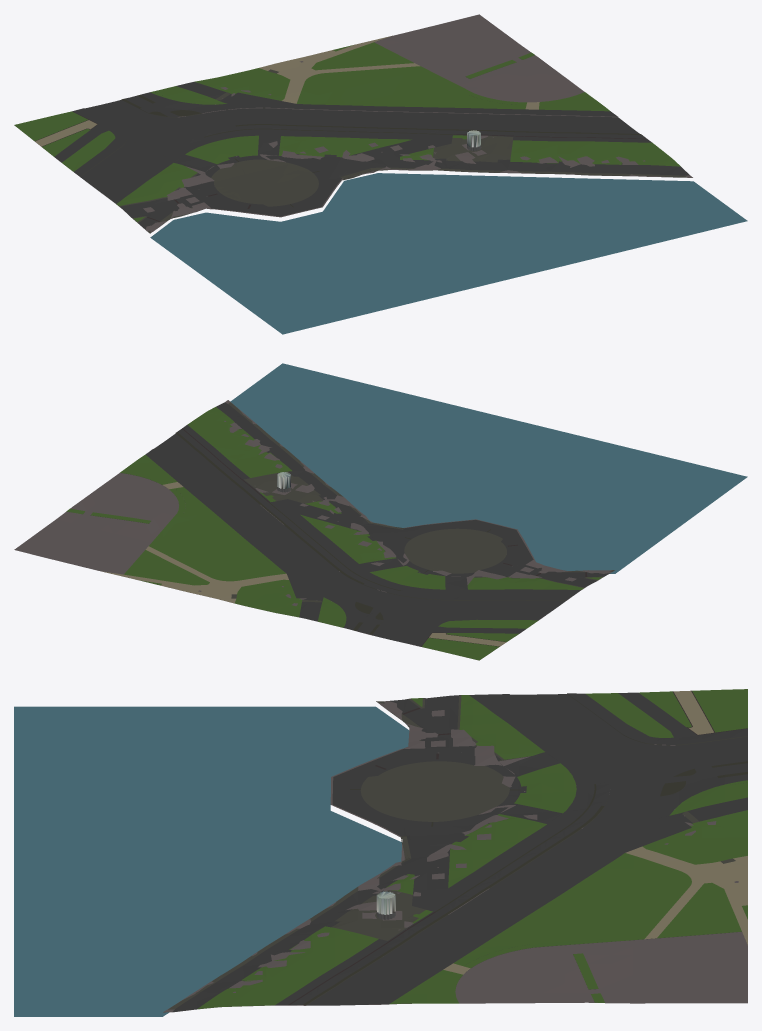
3 views of the same model, one above another, from view 1: azimuth 30°, elevation 25°; view 2: azimuth 150°, elevation 25°; view 3: azimuth 270°, elevation 25° (orthographic). The views are drawn at different scales.
Visible parts, largest first — view 1: c_m01_p12; view 2: c_m01_p12; view 3: c_m01_p12.
Boxes of the visible parts, x1=… form: c_m01_p12: x1=14, y1=14, x2=747, y2=334; c_m01_p12: x1=14, y1=363, x2=747, y2=660; c_m01_p12: x1=14, y1=689, x2=747, y2=1016.
Bounding box in the file's own units: 128 × 5.74 × 128.
